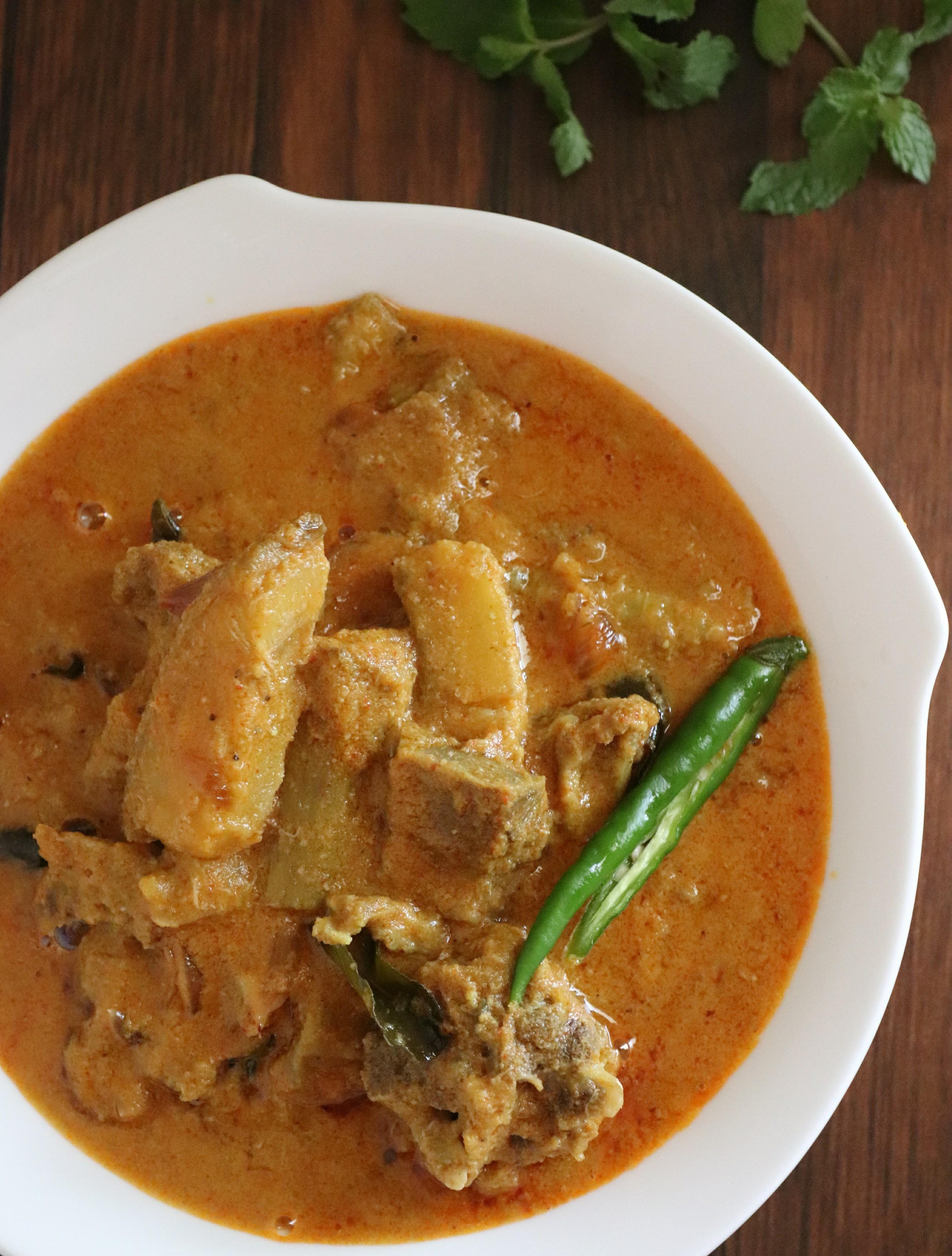MuttonCurry: (0, 299, 819, 1244)
